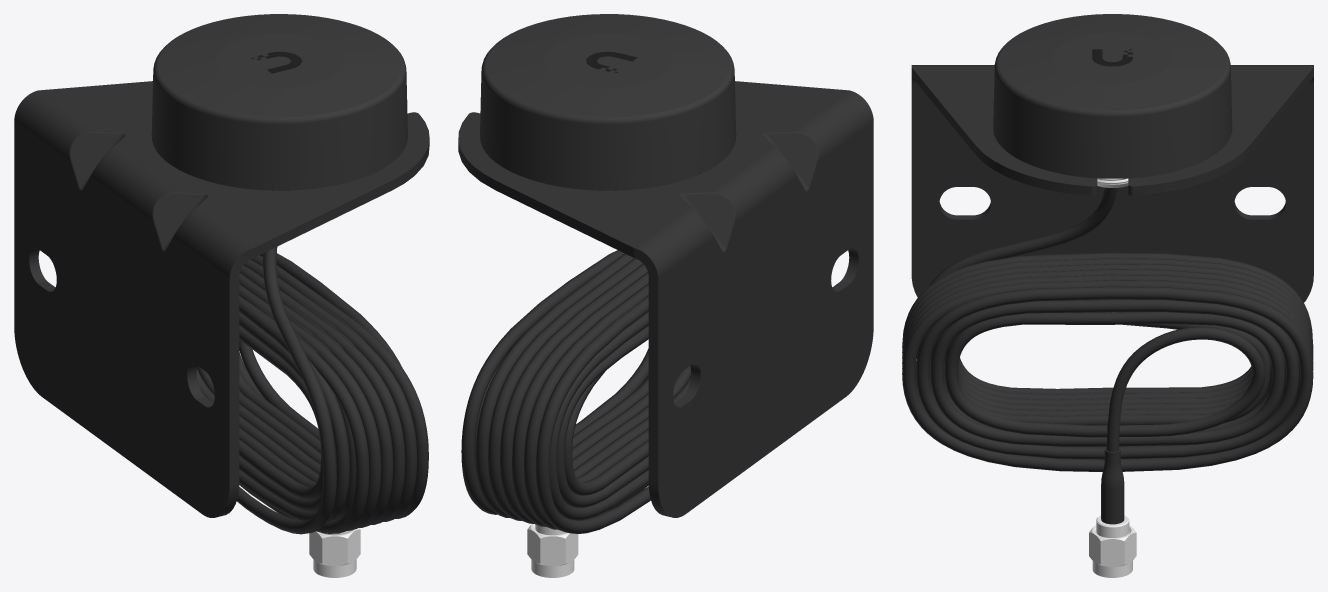
The model's file is uacc-gnss-antenna.glb.
The picture shows the model from 3 angles, left to right: view 1: azimuth 30°, elevation 25°; view 2: azimuth 150°, elevation 25°; view 3: azimuth 270°, elevation 25°; orthographic projection. The views are drawn at different scales.
Parts seen in each view (by area): view 1: UACC-GNSS-Antenna; view 2: UACC-GNSS-Antenna; view 3: UACC-GNSS-Antenna.
Part boxes in pixels (<box>): UACC-GNSS-Antenna: <box>14,14,429,577</box>; UACC-GNSS-Antenna: <box>458,14,873,577</box>; UACC-GNSS-Antenna: <box>902,14,1313,577</box>.
Size of the model in its own units: 0.0597 by 0.1041 by 0.0798.
1 material, 1 textured.
